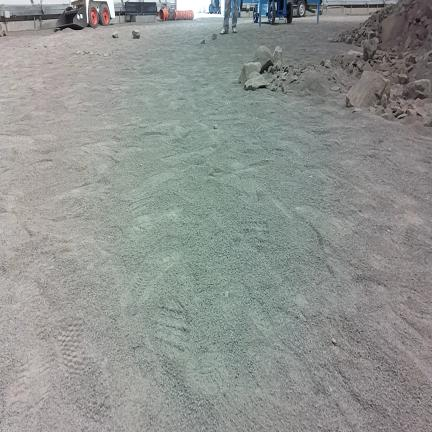Rock: (346, 72, 390, 107), (382, 14, 405, 46), (403, 79, 431, 99), (254, 46, 273, 72), (239, 63, 261, 84), (244, 72, 268, 90), (364, 39, 377, 61), (344, 50, 362, 62), (273, 46, 282, 62), (273, 60, 282, 72), (381, 93, 388, 108), (406, 54, 416, 64), (398, 74, 408, 84), (362, 62, 373, 71), (404, 36, 411, 49), (394, 107, 403, 117), (347, 62, 354, 74), (0, 23, 6, 36), (424, 117, 431, 127), (368, 31, 376, 39), (282, 84, 289, 93), (407, 109, 416, 116), (397, 113, 407, 119), (381, 113, 389, 120), (132, 30, 139, 38), (346, 37, 353, 44), (270, 84, 277, 91), (325, 60, 331, 68), (331, 86, 340, 91), (328, 38, 339, 42), (268, 66, 274, 73), (369, 107, 376, 113), (383, 71, 389, 77), (113, 31, 118, 38), (353, 108, 361, 112), (212, 34, 217, 40), (320, 59, 325, 65), (332, 338, 336, 345), (200, 39, 205, 44), (214, 124, 217, 129)
